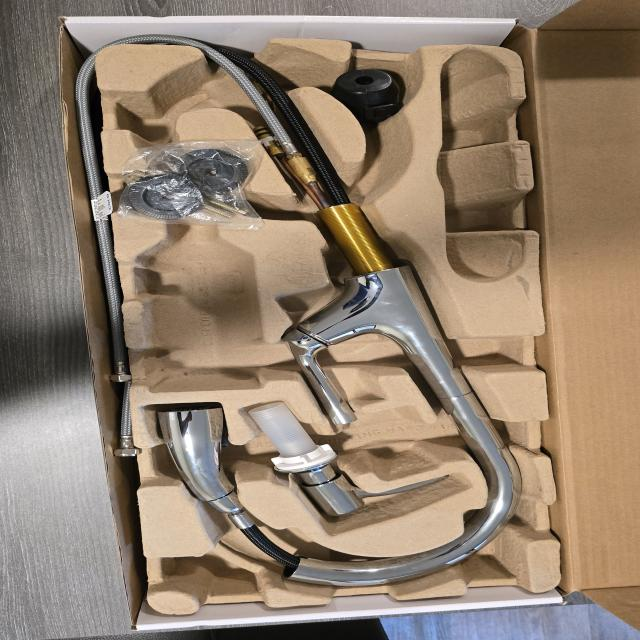1: (158, 36, 525, 588)
2: (247, 401, 449, 518)
3m: (135, 213, 263, 391)
4m: (437, 49, 525, 283)
5: (333, 69, 405, 123)
6m: (117, 69, 217, 147)
7: (110, 137, 272, 231)
